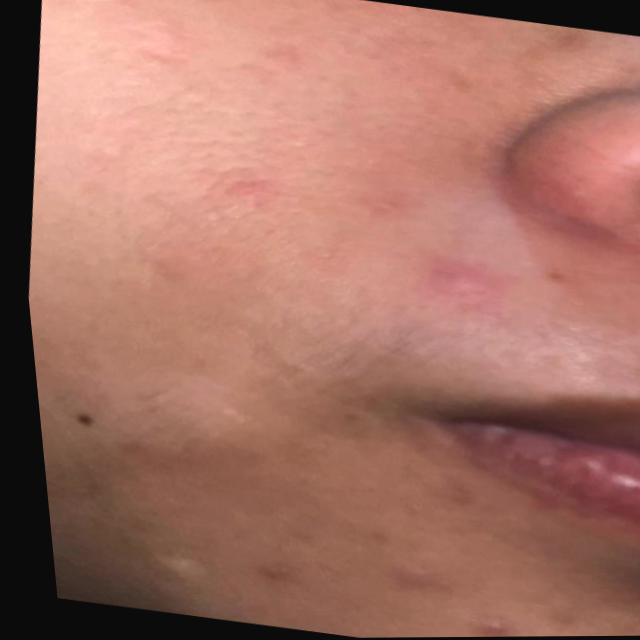papule: (407, 246, 513, 327), (372, 540, 439, 599)
pustule: (455, 605, 503, 638)
